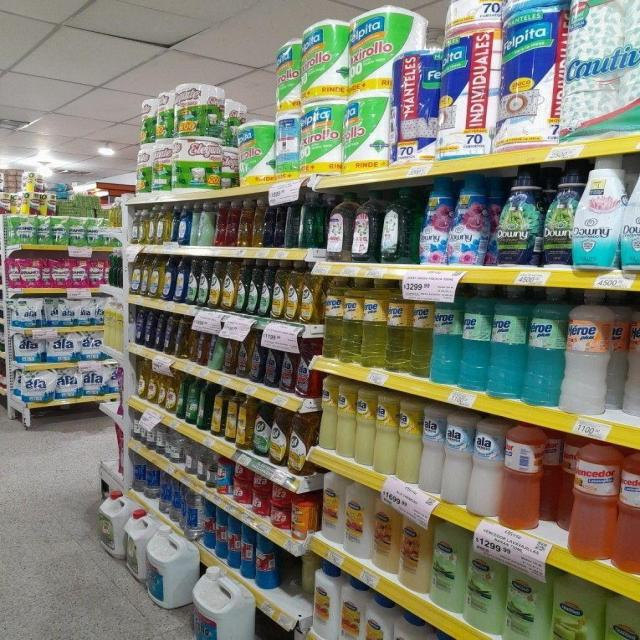ala_conc_amarillo: (237, 330, 250, 379)
ala_conc_azul: (250, 332, 264, 384), (266, 339, 280, 388)
ala_conc_rojo: (296, 344, 313, 398), (280, 346, 296, 393)
ala_crem_amarillo: (398, 396, 420, 484), (375, 390, 397, 476), (356, 386, 374, 467), (337, 380, 355, 458), (319, 375, 336, 451)
ala_crem_blanco: (469, 418, 503, 518), (443, 412, 470, 506), (420, 404, 443, 494)
ala_crem_rosado: (568, 439, 617, 562), (502, 423, 546, 530)
cif_conc_bot_amarilla: (289, 411, 310, 475), (301, 264, 320, 324), (270, 407, 287, 466), (286, 260, 300, 322), (272, 260, 286, 320), (209, 258, 222, 309), (223, 259, 235, 311)
cif_conc_botella_verde: (253, 403, 270, 457), (247, 260, 259, 316), (260, 260, 271, 317), (236, 259, 247, 313), (198, 258, 208, 307)
heroe: (564, 289, 626, 414), (626, 294, 640, 419)
magistral_con_amarillo: (156, 204, 170, 244), (149, 254, 161, 299), (130, 208, 144, 245), (131, 254, 141, 296), (148, 205, 156, 244), (142, 254, 149, 298)
magistral_con_azul: (161, 256, 174, 301), (187, 257, 198, 304), (175, 257, 186, 303), (172, 203, 184, 244)
